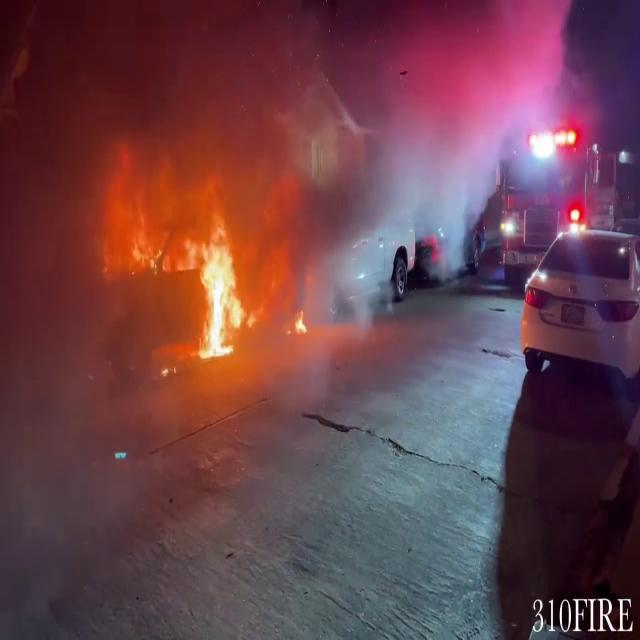Fire: (188, 213, 254, 360)
Smoke: (310, 0, 574, 208)
